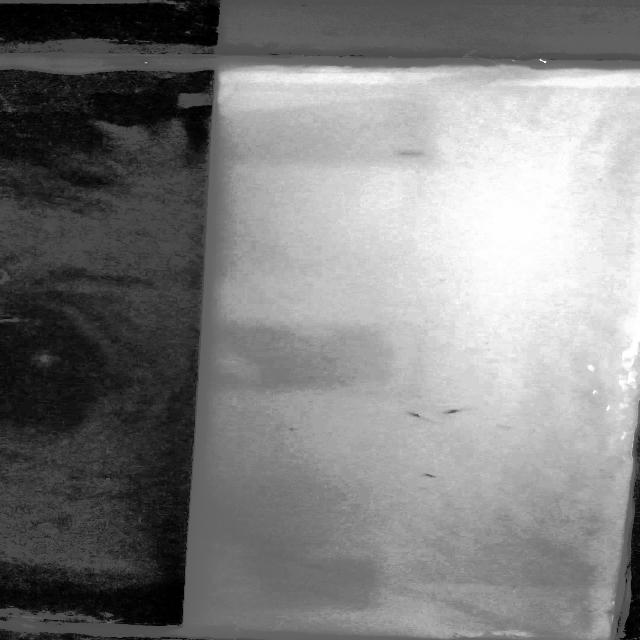shrimp: (408, 463, 456, 489), (433, 404, 471, 419), (400, 410, 434, 423)
